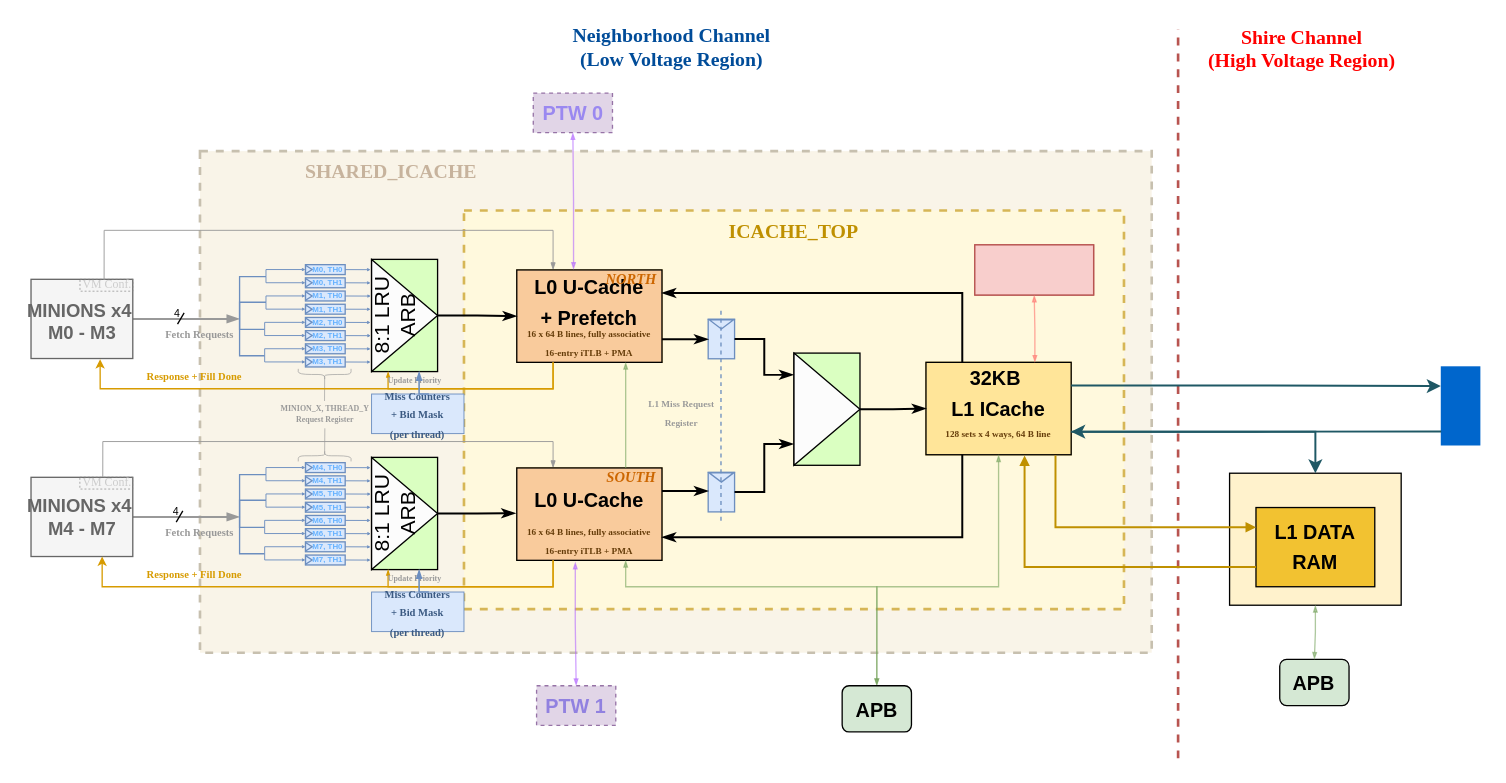
Image size: 1506x783. Some labels were removed from this diagram. Each missing label, with the box of its shape:
ECC Check + Error Log: (974, 244, 1094, 295)
ICACHE: (1228, 472, 1401, 605)
L2 Cache: (1440, 366, 1480, 445)
RR ARB: (793, 352, 860, 465)
